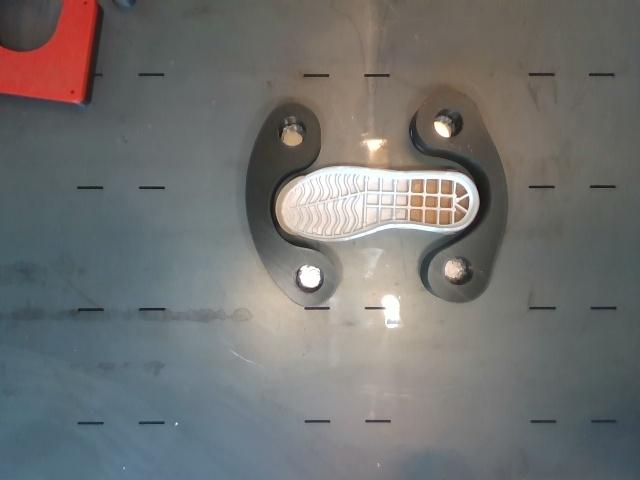shoes: (277, 167, 478, 241)
